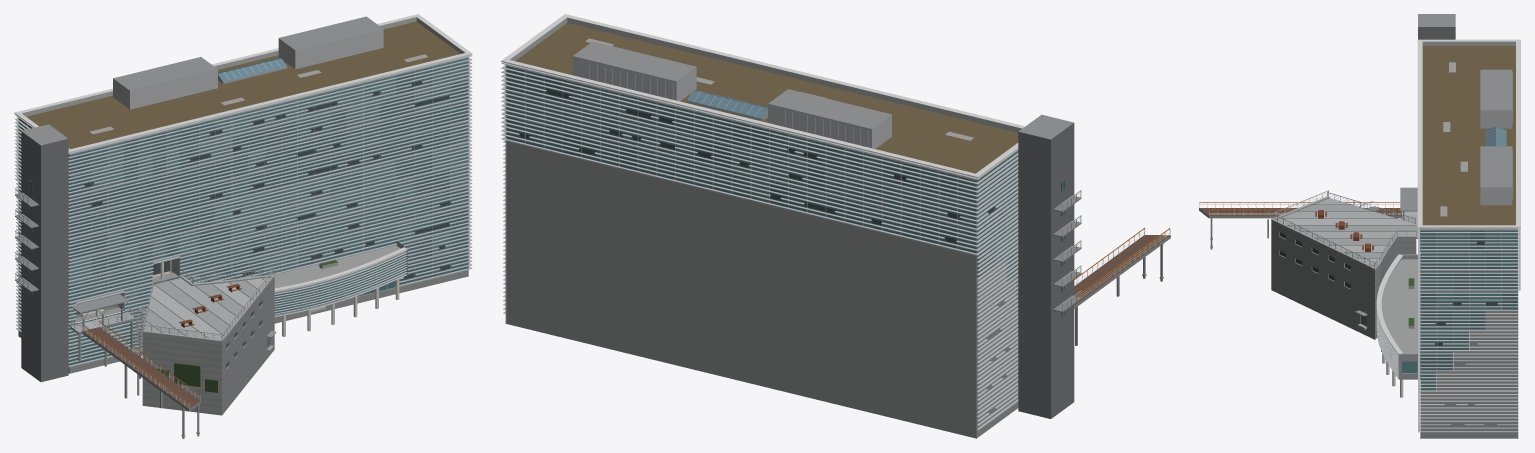
3 views of the same model, side by side, from view 1: azimuth 30°, elevation 25°; view 2: azimuth 150°, elevation 25°; view 3: azimuth 270°, elevation 25° (orthographic). The views are drawn at different scales.
Visible parts, largest first — view 1: s17__louver, s17__glassC, s17__glassB, s17__glassA, s17__roofGreen, s17__coreWall, s17__frame, s17a__concreteB-wall, s17a__concreteA-wall, s17__penthouse, s17__roofDark, s17__coping (+18 smaller); view 2: s17__wallBase, s17__louver, s17__coreWall, s17__roofGreen, s17__glassA, s17__glassB, s17__frame, s17__penthouse, s17__roofDark, s17__glassC, s17__coping, s17__parapetIn (+5 smaller); view 3: s17__roofGreen, s17__louver, s17__wallBase, s17a__concreteA-wall, s17a__concreteB-wall, s17__glassA, s17__coping, s17__roofDark, s17__roofPodium, s17__glassC, s17__frame, s17a__terraceStoneB (+19 smaller).
Part boxes in pixels (x1,y1,x2,y2): s17__louver: (14, 55, 472, 366); s17__glassC: (19, 71, 467, 365); s17__glassB: (68, 58, 467, 334); s17__glassA: (19, 67, 467, 343); s17__roofGreen: (26, 21, 460, 149); s17__coreWall: (21, 131, 68, 382); s17__frame: (18, 57, 468, 373); s17a__concreteB-wall: (142, 279, 274, 415); s17a__concreteA-wall: (142, 276, 276, 412); s17__penthouse: (113, 29, 383, 109); s17__roofDark: (21, 16, 382, 145); s17__coping: (14, 14, 472, 291); s17__wallBase: (506, 141, 1018, 438); s17__louver: (501, 61, 1018, 429); s17__coreWall: (1018, 123, 1074, 418); s17__roofGreen: (515, 23, 1018, 173); s17__glassA: (506, 66, 1018, 273); s17__glassB: (506, 85, 1018, 263); s17__frame: (505, 65, 1017, 438); s17__penthouse: (572, 56, 891, 148); s17__roofDark: (573, 41, 1073, 139); s17__glassC: (544, 75, 1064, 315); s17__coping: (501, 14, 1024, 177); s17__parapetIn: (510, 17, 1021, 132); s17__roofGreen: (1422, 46, 1515, 225); s17__louver: (1418, 73, 1520, 432); s17__wallBase: (1421, 311, 1517, 438); s17a__concreteA-wall: (1271, 220, 1416, 336); s17a__concreteB-wall: (1271, 222, 1416, 339); s17__glassA: (1421, 231, 1517, 390); s17__coping: (1376, 39, 1520, 354); s17__roofDark: (1418, 14, 1512, 187); s17__roofPodium: (1381, 259, 1420, 353); s17__glassC: (1421, 231, 1517, 370); s17__frame: (1388, 228, 1518, 438); s17a__terraceStoneB: (1287, 205, 1416, 258).
Bounding box in the file's own units: 82.35 × 43 × 54.84.
